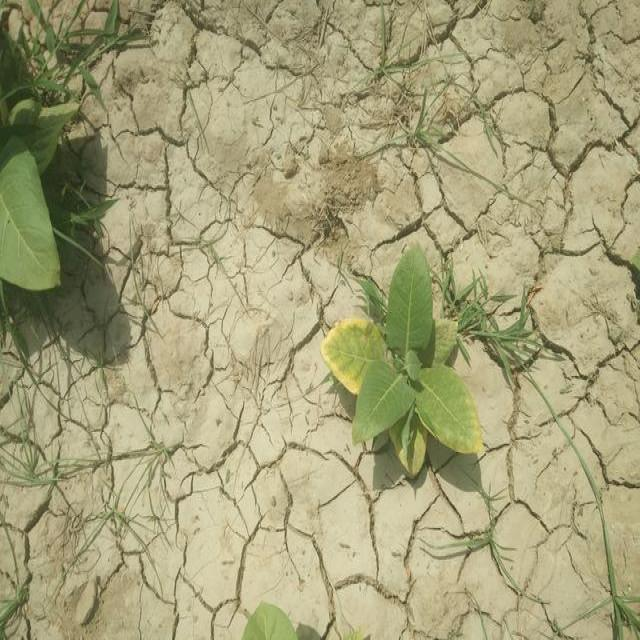crop: (326, 248, 489, 470), (0, 28, 76, 292), (226, 607, 314, 640)
